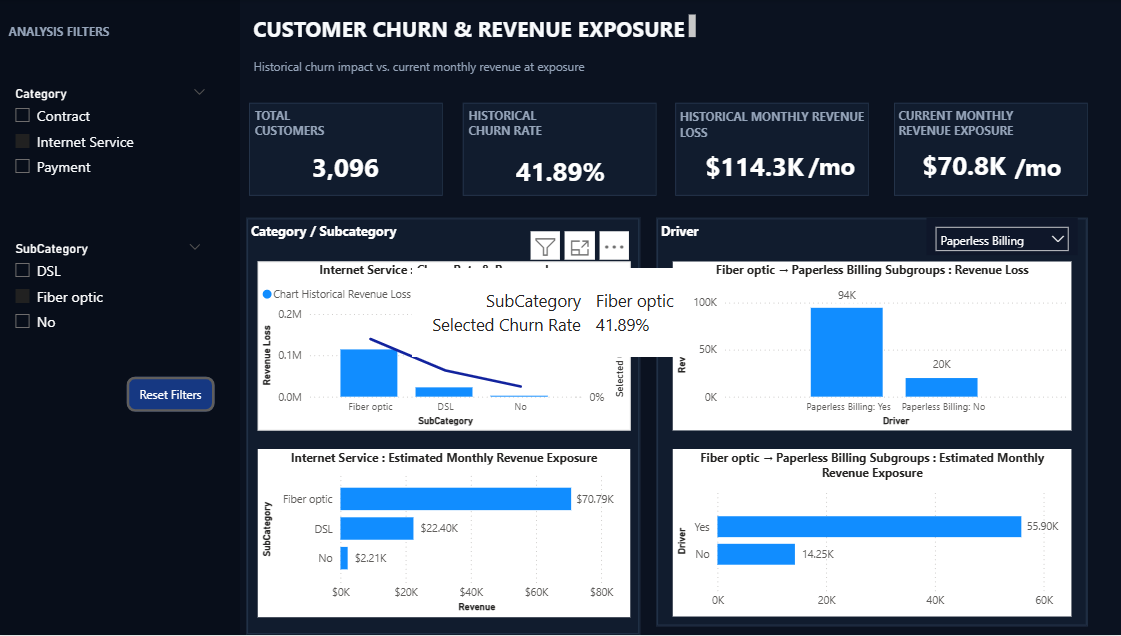

Layout of this report page (visuals, bound fields, positions):
{"tool":"powerbi","page":{"name":"Page 1","canvas":[1280,720],"ordinal":0},"visuals":[{"type":"shape","box":[0,0,278.7,720.2],"z":0},{"type":"textbox","box":[288.8,12.8,510.9,38.5],"z":1000},{"type":"textbox","box":[11.6,23.1,128.4,38.5],"z":2000},{"type":"slicer","fields":{"Values":["Category.Category"]},"box":[11.6,93.7,240,128.4],"z":3000},{"type":"slicer","fields":{"Values":["CategorySubCategory.SubCategory"]},"box":[11.6,268.3,234.9,148.9],"z":4000},{"type":"textbox","box":[288.8,61.6,510.9,32.1],"z":5000},{"type":"shape","box":[288.8,116.8,219.5,105.3],"z":6000},{"type":"shape","box":[530.1,116.8,219.5,105.3],"z":7000},{"type":"shape","box":[771.4,116.8,219.5,105.3],"z":8000},{"type":"shape","box":[1017.9,116.8,219.5,105.3],"z":9000},{"type":"textbox","box":[290.1,116.8,219.5,50.1],"z":10000},{"type":"textbox","box":[531.4,116.8,218.2,50.1],"z":11000},{"type":"textbox","box":[771.4,119.4,219.5,50.1],"z":12000},{"type":"textbox","box":[1017.9,118.1,219.5,53.9],"z":13000},{"type":"shape","box":[285.8,247.6,445.6,472.5],"z":14000},{"type":"shape","box":[749.8,247.6,488.1,462.6],"z":16000},{"type":"clusteredBarChart","fields":{"Category":["CategorySubCategory.SubCategory"],"Y":["Measures (2).Selected Current Monthly Revenue Exposure"]},"box":[298.5,509.3,421.6,190],"z":19000},{"type":"card","fields":{"Values":["Measures (2).Selected Customers"]},"box":[340.2,165.6,116.8,51.3],"z":20000},{"type":"card","fields":{"Values":["Measures (2).Selected Churn Rate Display"]},"box":[581.5,169.4,119.4,51.3],"z":21000},{"type":"card","fields":{"Values":["Measures (2).Selected Historical Revenue Loss Display"]},"box":[771,164.1,179.7,52.3],"z":22000},{"type":"textbox","box":[916.1,165.6,75.3,45.2],"z":23000},{"type":"textbox","box":[1150.7,167.6,75.7,45.9],"z":24000},{"type":"actionButton","box":[150.7,426.6,99.8,39.9],"z":25000},{"type":"card","fields":{"Values":["Measures (2).Current Revenue Exposure Display"]},"box":[1034,163.8,127.9,49.7],"z":26000},{"type":"lineClusteredColumnComboChart","fields":{"Y":["Measures (2).Chart Historical Revenue Loss"],"Y2":["Measures (2).Selected Churn Rate"],"Category":["CategorySubCategory.SubCategory"]},"box":[298.5,297.1,421.6,191],"z":27000},{"type":"lineClusteredColumnComboChart","fields":{"Category":["DriverValues.Driver Label"],"Y":["Measures (2).Driver Historical Revenue Loss"]},"box":[768.2,297.1,451.3,191],"z":28000},{"type":"clusteredBarChart","fields":{"Category":["DriverValues.DriverValue"],"Y":["Measures (2).Driver Current Revenue Exposure"]},"box":[768.2,509.3,451.3,189.6],"z":29000},{"type":"slicer","fields":{"Values":["DriverValues.Driver"]},"box":[1055.4,247.6,171.2,42.4],"z":31000},{"type":"textbox","box":[749.8,247.6,100.4,41],"z":32000},{"type":"textbox","box":[285.8,247.6,185.3,41],"z":33000}]}

Visuals, with their boxes in screenshot pixels (x1, y1, x2, y2):
shape: bbox(6, 9, 247, 631)
textbox: bbox(255, 20, 697, 53)
textbox: bbox(16, 29, 127, 62)
slicer - Category.Category: bbox(16, 90, 223, 201)
slicer - CategorySubCategory.SubCategory: bbox(16, 240, 219, 369)
textbox: bbox(255, 62, 697, 90)
shape: bbox(255, 110, 445, 201)
shape: bbox(464, 110, 653, 201)
shape: bbox(672, 110, 862, 201)
shape: bbox(885, 110, 1075, 201)
textbox: bbox(256, 110, 446, 153)
textbox: bbox(465, 110, 653, 153)
textbox: bbox(672, 112, 862, 155)
textbox: bbox(885, 111, 1075, 157)
shape: bbox(253, 223, 638, 631)
shape: bbox(653, 223, 1075, 622)
clusteredBarChart - CategorySubCategory.SubCategory x Measures (2).Selected Current Monthly Revenue Exposure: bbox(264, 449, 628, 613)
card - Measures (2).Selected Customers: bbox(300, 152, 401, 196)
card - Measures (2).Selected Churn Rate Display: bbox(508, 155, 611, 199)
card - Measures (2).Selected Historical Revenue Loss Display: bbox(672, 150, 827, 196)
textbox: bbox(797, 152, 862, 191)
textbox: bbox(1000, 154, 1065, 193)
actionButton: bbox(136, 377, 222, 412)
card - Measures (2).Current Revenue Exposure Display: bbox(899, 150, 1009, 193)
lineClusteredColumnComboChart - Measures (2).Chart Historical Revenue Loss x Measures (2).Selected Churn Rate: bbox(264, 265, 628, 430)
lineClusteredColumnComboChart - DriverValues.Driver Label x Measures (2).Driver Historical Revenue Loss: bbox(669, 265, 1059, 430)
clusteredBarChart - DriverValues.DriverValue x Measures (2).Driver Current Revenue Exposure: bbox(669, 449, 1059, 612)
slicer - DriverValues.Driver: bbox(917, 223, 1065, 259)
textbox: bbox(653, 223, 740, 258)
textbox: bbox(253, 223, 413, 258)
